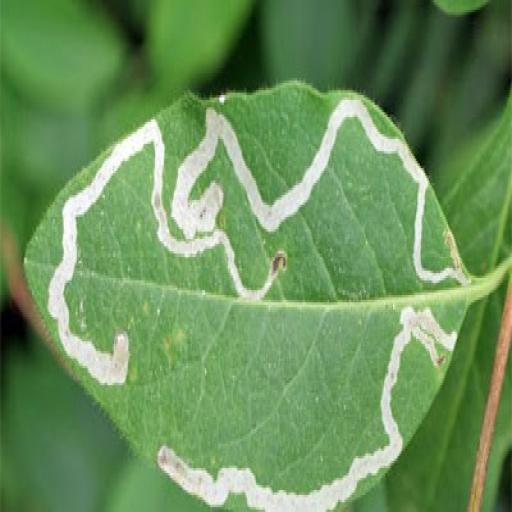disease_tomato: (22, 81, 468, 512)
